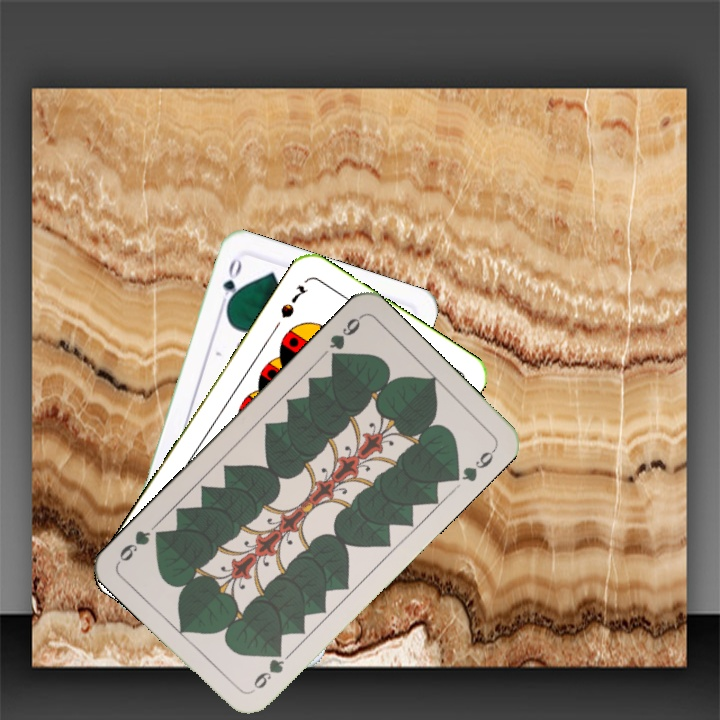G9: (325, 311, 364, 365), (247, 645, 287, 695)
GO: (215, 255, 245, 312)
S7: (276, 281, 311, 321)
